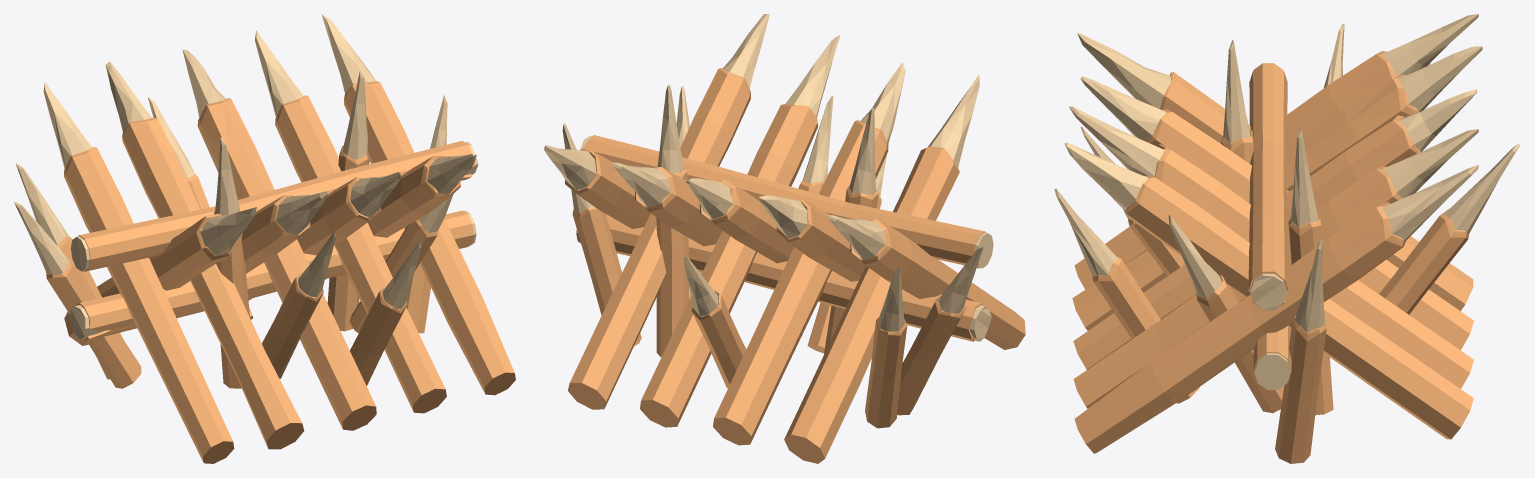
Rendered from spike.wall.03.fbx.
The picture shows the model from 3 angles, left to right: view 1: azimuth 30°, elevation 25°; view 2: azimuth 150°, elevation 25°; view 3: azimuth 270°, elevation 25°; orthographic projection. The views are drawn at different scales.
Visible parts, largest first — view 1: spike.wall.03; view 2: spike.wall.03; view 3: spike.wall.03.
Part boxes in pixels (bbox=[...]): spike.wall.03: bbox=[14, 14, 515, 463]; spike.wall.03: bbox=[544, 14, 1025, 463]; spike.wall.03: bbox=[1054, 14, 1520, 463].
Size of the model in its own units: 2.21 by 1.37 by 1.89.
